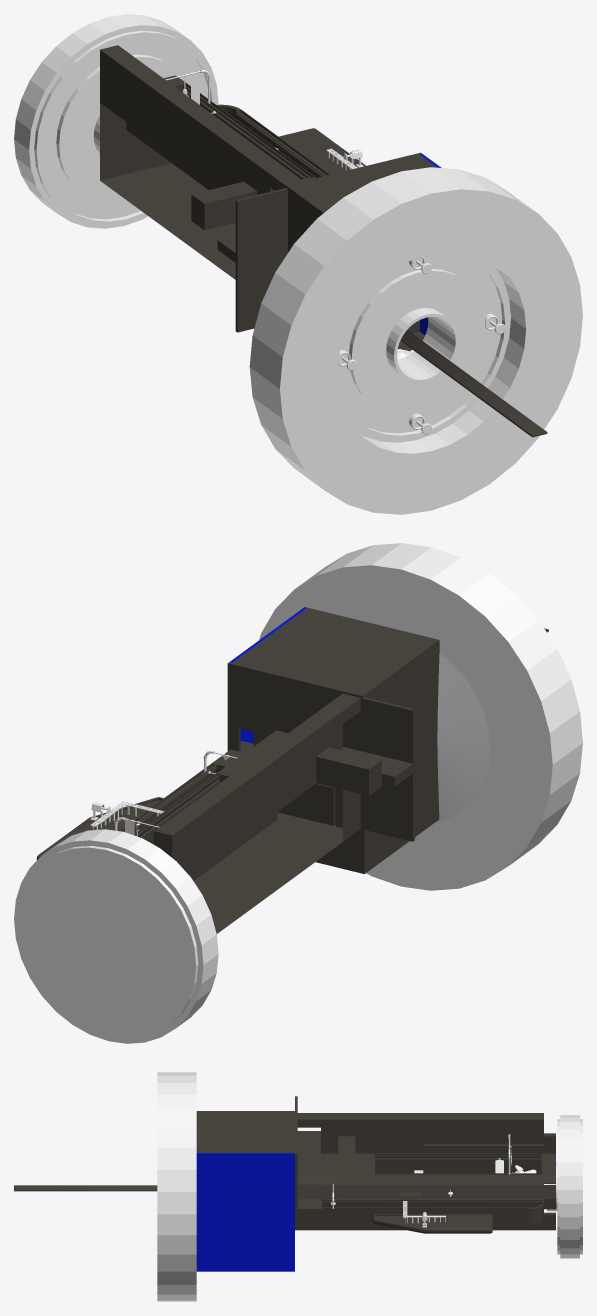
The model's file is Lvl5_OK.fbx.
3 views of the same model, one above another, from view 1: azimuth 30°, elevation 25°; view 2: azimuth 150°, elevation 25°; view 3: azimuth 270°, elevation 25° (orthographic). The views are drawn at different scales.
Visible parts, largest first — view 1: rueda, Lvl5, Lvl5.001; view 2: rueda, Lvl5; view 3: Lvl5, rueda, Lvl5.001.
Part boxes in pixels (x1,y1,x2,y2): rueda: (14, 14, 582, 514); Lvl5: (100, 45, 441, 351); Lvl5.001: (400, 330, 547, 437); rueda: (14, 543, 582, 1043); Lvl5: (36, 607, 439, 933); Lvl5: (196, 1096, 555, 1271); rueda: (157, 1072, 582, 1301); Lvl5.001: (14, 1185, 157, 1191).
Size of the model in its own units: 4508 by 4508 by 11188.
